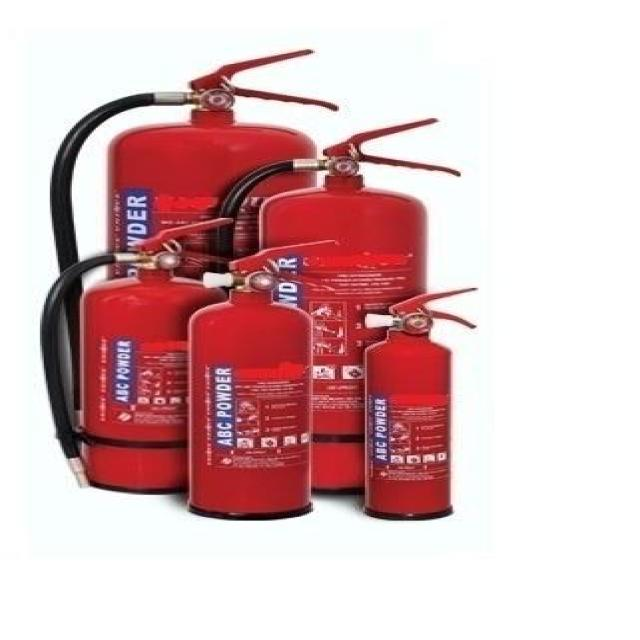fire_extinguisher: (43, 43, 344, 474), (204, 114, 468, 500), (29, 212, 252, 496), (174, 238, 352, 524), (345, 284, 484, 522)
